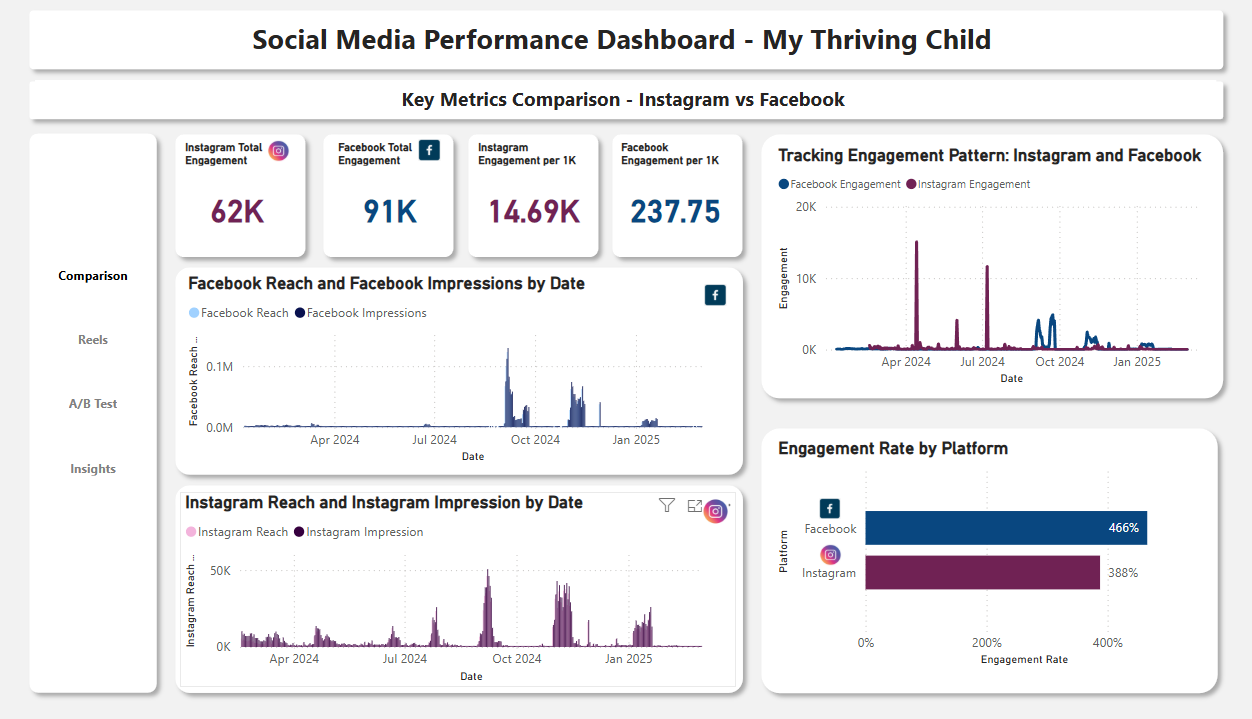

The page's visual inventory and layout, read from the dashboard file:
{"tool":"powerbi","page":{"name":"dashboard1","canvas":[1280,720],"ordinal":0},"visuals":[{"type":"shape","box":[51.6,134.2,142,562.2],"z":0},{"type":"shape","box":[51.4,15.1,1179.3,75.4],"z":1000},{"type":"shape","box":[51.4,83.3,1179.3,55],"z":2000},{"type":"textbox","box":[66.5,27.5,1149.2,47],"z":3000},{"type":"textbox","box":[66.5,91.3,1149.2,34.6],"z":4000},{"type":"shape","box":[193.3,477,570.1,220],"z":5000},{"type":"shape","box":[763.4,135.7,467.3,274.9],"z":6000},{"type":"shape","box":[193.3,135.7,144.5,137.4],"z":7000},{"type":"shape","box":[763.4,421.2,462,275.8],"z":8000},{"type":"shape","box":[193.3,264.2,570.1,219.9],"z":9000},{"type":"shape","box":[337.8,135.7,144.5,137.4],"z":10000},{"type":"card","title":"Instagram Total Engagement","fields":{"Values":["Sum(instagram_data.Engagement)"]},"box":[207.5,150.7,110.8,107.3],"z":11000},{"type":"card","title":"Facebook Total Engagement","fields":{"Values":["facebook_data.Facebook_Total_Engagement"]},"box":[355.6,150.7,110,107.3],"z":12000},{"type":"lineChart","title":"Tracking Engagement Pattern: Instagram and Facebook","fields":{"Category":["DateTable.Date"],"Y":["facebook_data.Facebook_Total_Engagement","Sum(instagram_data.Engagement)"]},"box":[783.8,154.3,431.8,237.6],"z":13000},{"type":"clusteredColumnChart","fields":{"Category":["DateTable.Date"],"Y":["facebook_data.FB_Reach","facebook_data.FB_Impressions"]},"box":[210.1,279.3,537.3,188.9],"z":14000},{"type":"shape","box":[478.8,135.7,144.5,137.4],"z":15000},{"type":"shape","box":[618.9,135.7,144.5,137.4],"z":16000},{"type":"clusteredColumnChart","fields":{"Category":["DateTable.Date"],"Y":["instagram_data.IG_Reach","instagram_data.IG_Impressions"]},"box":[207.5,492.1,540,189.8],"z":17000},{"type":"barChart","fields":{"Category":["Platform.Platform"],"Y":["facebook_data.eng_Engagement Rate"]},"box":[783.8,439.8,419.4,226.1],"z":18000},{"type":"card","title":"Facebook Engagement per 1K","fields":{"Values":["facebook_data.FB_Engagement_per_1K"]},"box":[631.3,150.7,116.2,107.3],"z":19000},{"type":"card","title":"Instagram Engagement per 1K ","fields":{"Values":["instagram_data.IG_Engagement_per_1K"]},"box":[492.1,150.7,117,107.3],"z":20000},{"type":"image","box":[257.1,143.6,92.2,32.8],"z":21000},{"type":"image","box":[433.6,138.3,31.9,43.4],"z":22000},{"type":"image","box":[681.9,492.1,92.2,38.1],"z":23000},{"type":"image","box":[793.6,536.5,92.2,32.8],"z":24000},{"type":"image","box":[712,279.3,31.9,43.4],"z":25000},{"type":"image","box":[823.7,486.8,31,43.4],"z":26000},{"type":"actionButton","box":[76.8,264.6,91.4,28.2],"z":27000},{"type":"actionButton","box":[76.8,328.4,91.4,27.2],"z":28000},{"type":"actionButton","box":[76.8,391.3,91.4,27.2],"z":29000},{"type":"actionButton","box":[76.8,454.2,91.4,27.2],"z":30000}]}

Visuals, with their boxes in screenshot pixels (x1, y1, x2, y2), scaled from the page's 1280x720 canvas onto the 1252x719 screenshot:
shape: x1=50 y1=134 x2=189 y2=695
shape: x1=50 y1=15 x2=1204 y2=90
shape: x1=50 y1=83 x2=1204 y2=138
textbox: x1=65 y1=27 x2=1189 y2=74
textbox: x1=65 y1=91 x2=1189 y2=126
shape: x1=189 y1=476 x2=747 y2=696
shape: x1=747 y1=136 x2=1204 y2=410
shape: x1=189 y1=136 x2=330 y2=273
shape: x1=747 y1=421 x2=1199 y2=696
shape: x1=189 y1=264 x2=747 y2=483
shape: x1=330 y1=136 x2=472 y2=273
"Instagram Total Engagement" card: x1=203 y1=150 x2=311 y2=258
"Facebook Total Engagement" card: x1=348 y1=150 x2=455 y2=258
"Tracking Engagement Pattern: Instagram and Facebook" lineChart: x1=767 y1=154 x2=1189 y2=391
clusteredColumnChart - DateTable.Date x facebook_data.FB_Reach: x1=206 y1=279 x2=731 y2=468
shape: x1=468 y1=136 x2=610 y2=273
shape: x1=605 y1=136 x2=747 y2=273
clusteredColumnChart - DateTable.Date x instagram_data.IG_Reach: x1=203 y1=491 x2=731 y2=681
barChart - Platform.Platform x facebook_data.eng_Engagement Rate: x1=767 y1=439 x2=1177 y2=665
"Facebook Engagement per 1K" card: x1=617 y1=150 x2=731 y2=258
"Instagram Engagement per 1K " card: x1=481 y1=150 x2=596 y2=258
image: x1=251 y1=143 x2=342 y2=176
image: x1=424 y1=138 x2=455 y2=181
image: x1=667 y1=491 x2=757 y2=529
image: x1=776 y1=536 x2=866 y2=569
image: x1=696 y1=279 x2=728 y2=322
image: x1=806 y1=486 x2=836 y2=529
actionButton: x1=75 y1=264 x2=165 y2=292
actionButton: x1=75 y1=328 x2=165 y2=355
actionButton: x1=75 y1=391 x2=165 y2=418
actionButton: x1=75 y1=454 x2=165 y2=481
